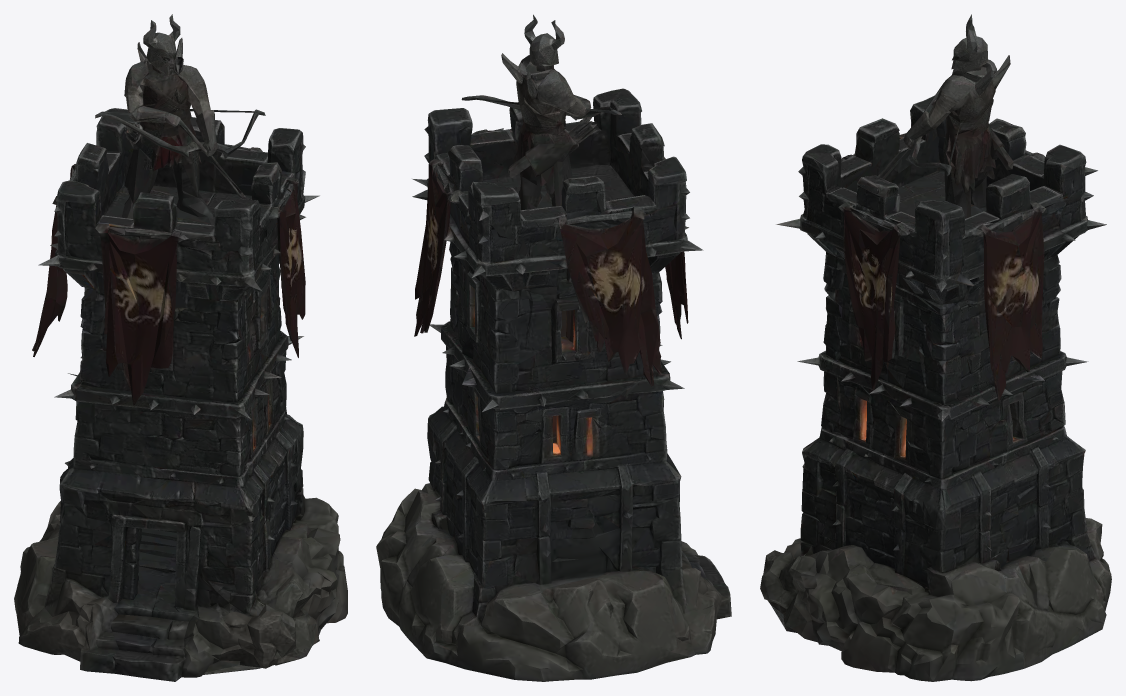
Rendered from model.opt.glb.
3 views of the same model, side by side, from view 1: azimuth 30°, elevation 25°; view 2: azimuth 150°, elevation 25°; view 3: azimuth 270°, elevation 25° (orthographic). The views are drawn at different scales.
Visible parts, largest first — view 1: Mesh_0; view 2: Mesh_0; view 3: Mesh_0.
Boxes of the visible parts, bbox=[...] form: Mesh_0: bbox=[14, 14, 347, 681]; Mesh_0: bbox=[376, 14, 731, 681]; Mesh_0: bbox=[760, 14, 1111, 681].
Size of the model in its own units: 1.06 by 1.9 by 1.03.
Materials: 1 (1 with a texture image).
